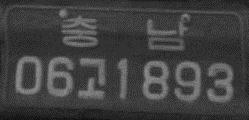0: (14, 54, 41, 95)
1: (109, 57, 136, 102)
3: (206, 62, 234, 103)
6: (46, 56, 74, 98)
8: (141, 60, 169, 102)
9: (174, 60, 202, 102)
고: (76, 56, 106, 99)
충남_D: (59, 13, 186, 52)
